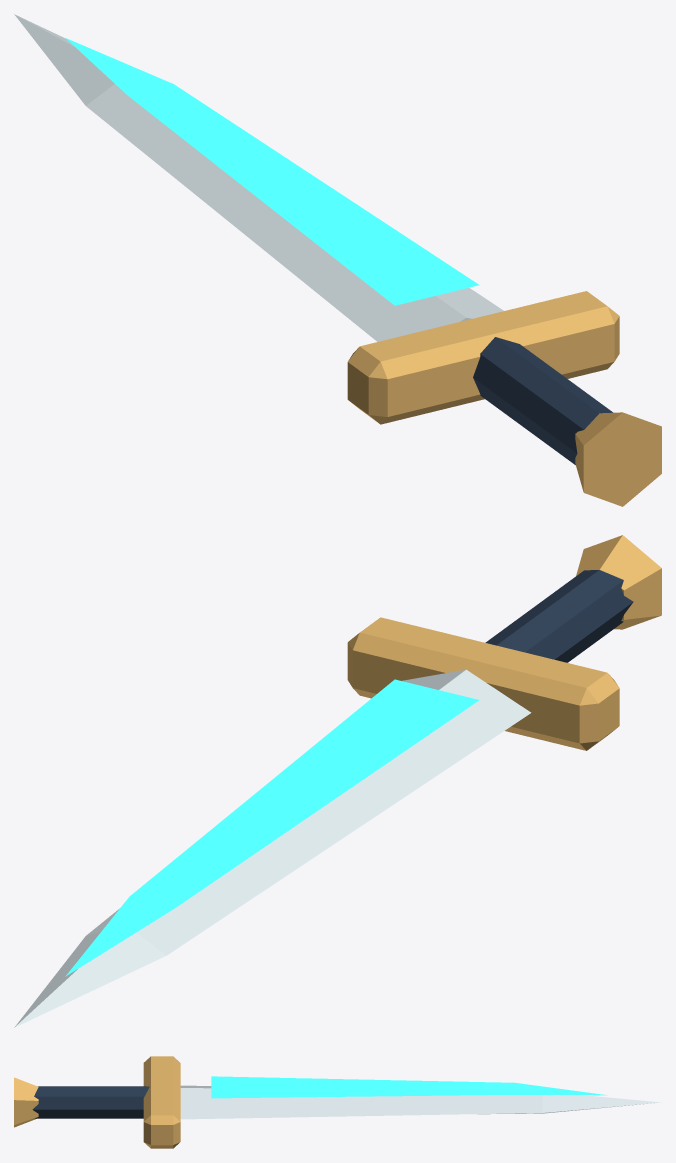
File: sword.glb
The picture shows the model from 3 angles, top to bottom: view 1: azimuth 30°, elevation 25°; view 2: azimuth 150°, elevation 25°; view 3: azimuth 270°, elevation 25°; orthographic projection. The views are drawn at different scales.
Parts seen in each view (by area): view 1: WPN_StarBlade_01; view 2: WPN_StarBlade_01; view 3: WPN_StarBlade_01.
Boxes of the visible parts, left/top/right/bottom form: WPN_StarBlade_01: left=14, top=14, right=661, bottom=506; WPN_StarBlade_01: left=14, top=535, right=661, bottom=1027; WPN_StarBlade_01: left=14, top=1056, right=661, bottom=1148.
Bounding box in the file's own units: 0.25 × 0.09 × 1.05.
